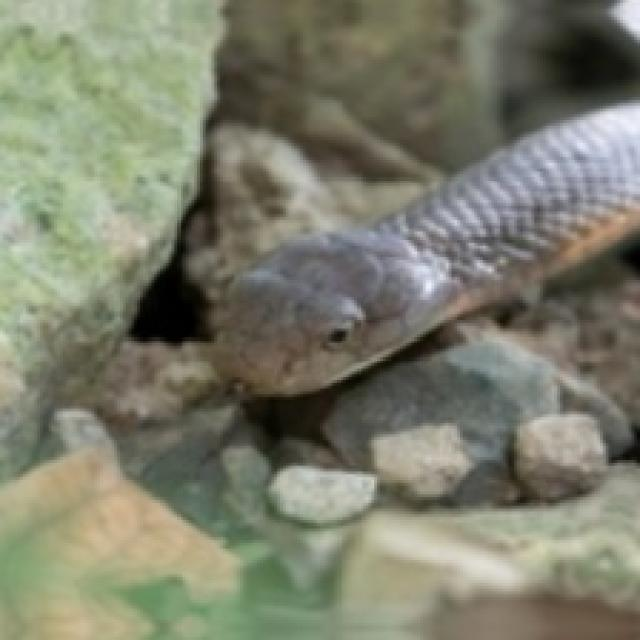king cobra: (217, 103, 637, 394)
